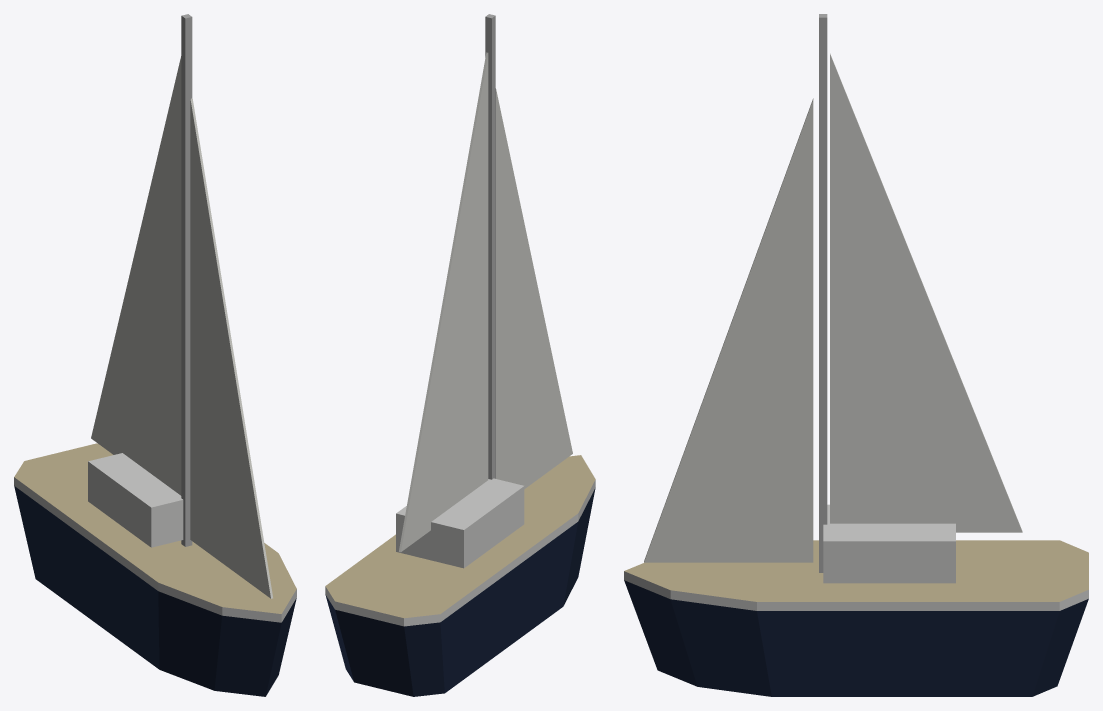
File: ship_sailing.glb
3 renders of one model, left to right at view 1: azimuth 30°, elevation 25°; view 2: azimuth 150°, elevation 25°; view 3: azimuth 270°, elevation 25°, orthographic. The views are drawn at different scales.
Parts seen in each view (by area): view 1: ship_sailing; view 2: ship_sailing; view 3: ship_sailing.
Part boxes in pixels (x1,y1,x2,y2): ship_sailing: [14, 14, 296, 696]; ship_sailing: [325, 14, 595, 696]; ship_sailing: [624, 14, 1088, 696].
Bounding box in the file's own units: 4.4 × 21.75 × 14.
